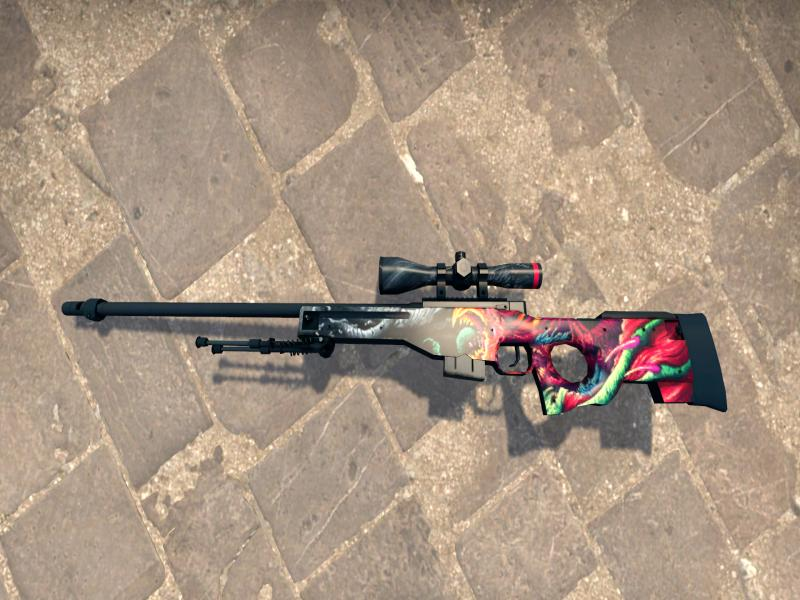AWP: (61, 251, 728, 415)
